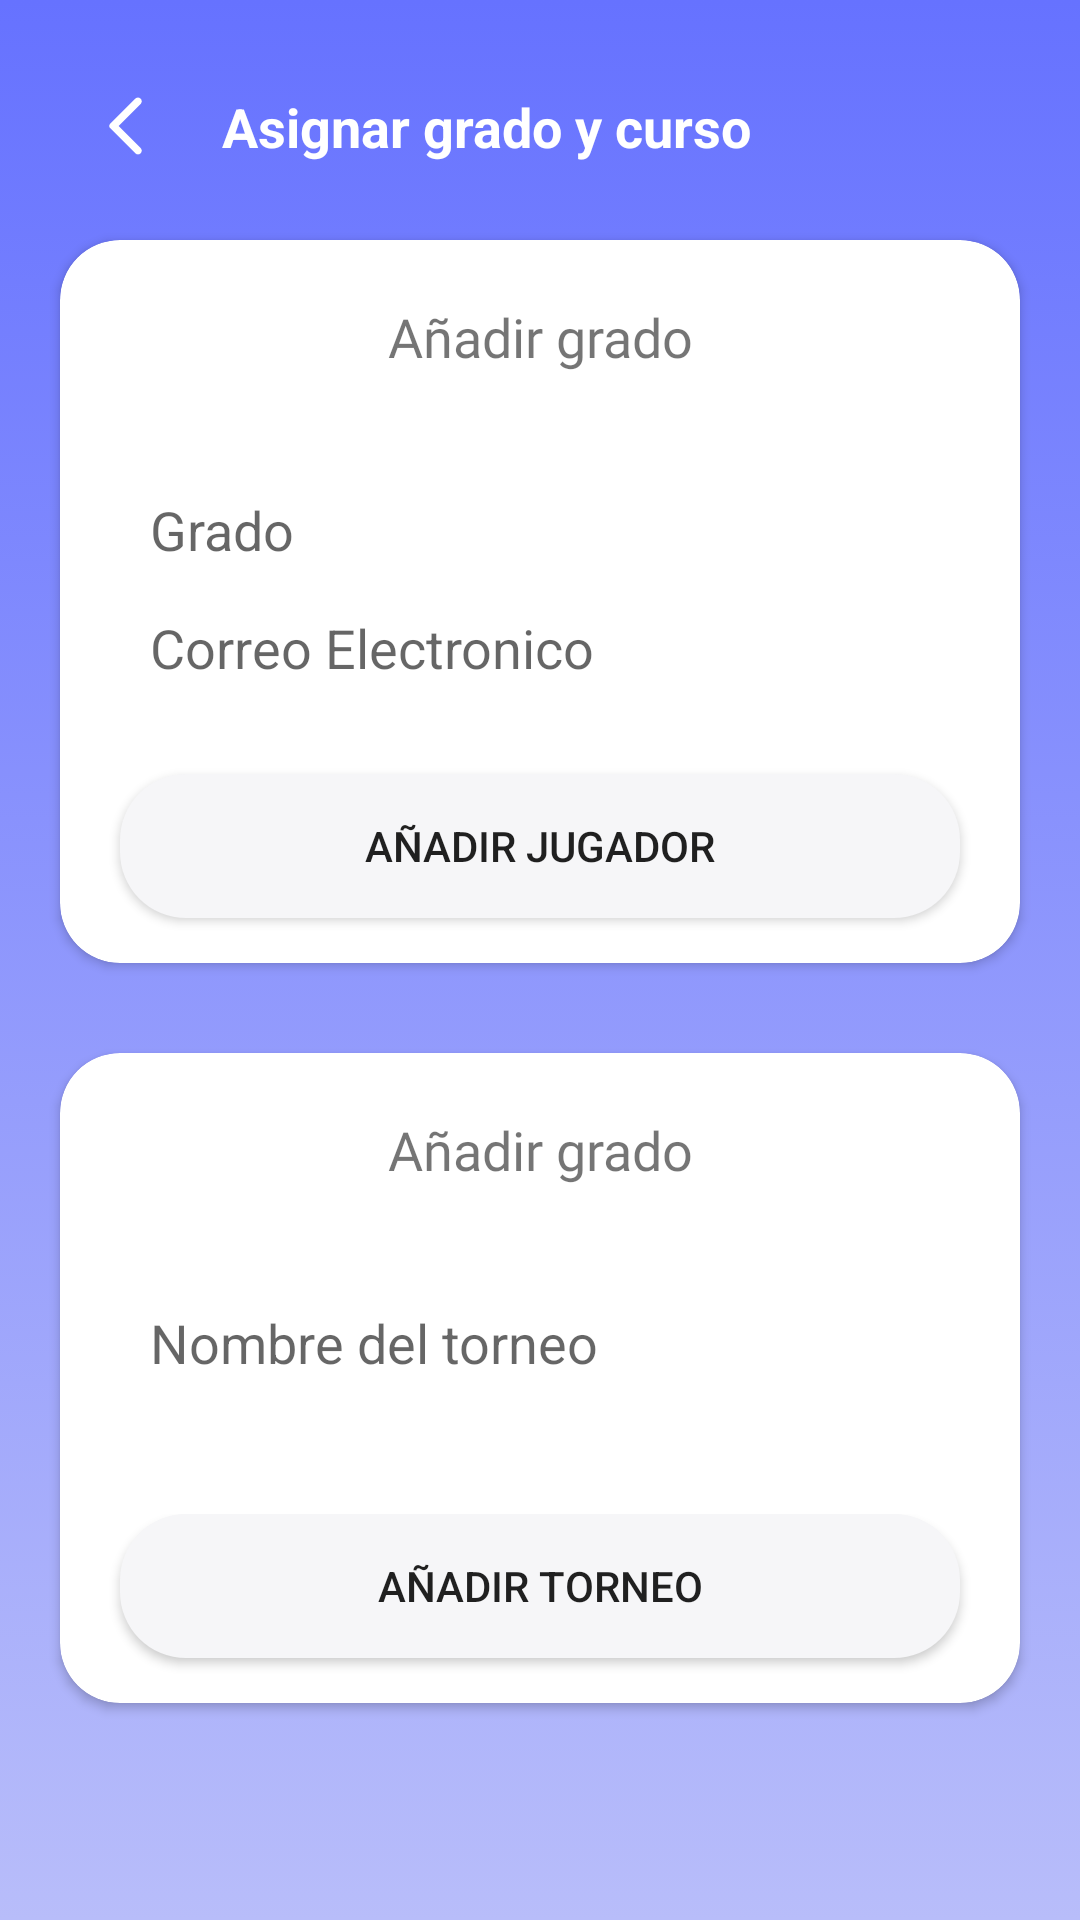

Icon bounding boxes for this 1080 × 1920 phone screenshot, format bbox=(x1, y1, x2, y2):
arrow back: bbox=(109, 97, 142, 155)
